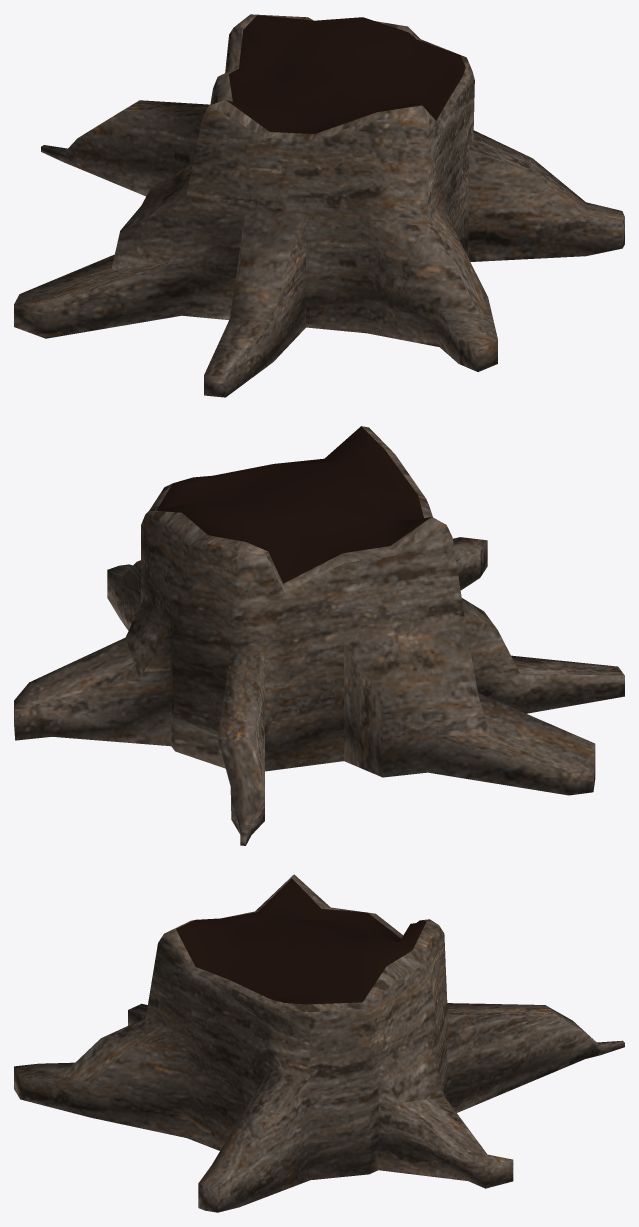
Rendered from Tocon.obj.
3 renders of one model, top to bottom at view 1: azimuth 30°, elevation 25°; view 2: azimuth 150°, elevation 25°; view 3: azimuth 270°, elevation 25°, orthographic. The views are drawn at different scales.
Parts seen in each view (by area): view 1: Cube_Cube.005; view 2: Cube_Cube.005; view 3: Cube_Cube.005.
Boxes of the visible parts, left/top/right/bottom form: Cube_Cube.005: left=14, top=14, right=624, bottom=397; Cube_Cube.005: left=14, top=426, right=624, bottom=845; Cube_Cube.005: left=14, top=874, right=624, bottom=1212.
Bounding box in the file's own units: 1.5 × 0.5937 × 1.62.
3 materials, 1 textured.
